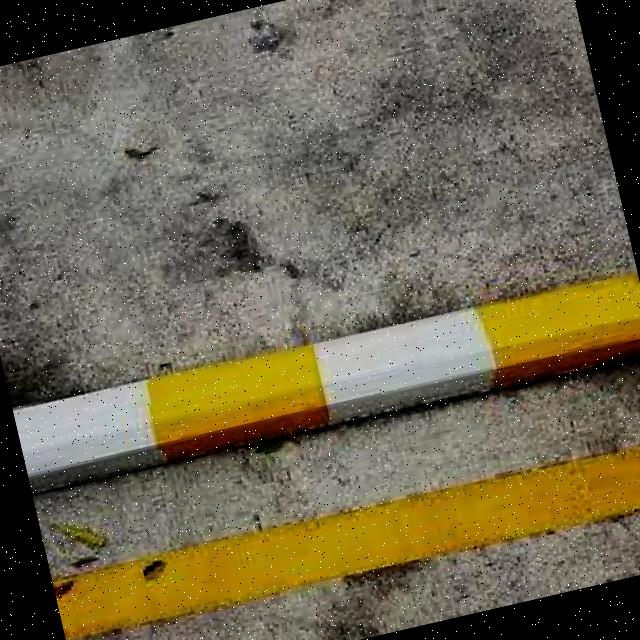curb: (13, 267, 640, 506)
